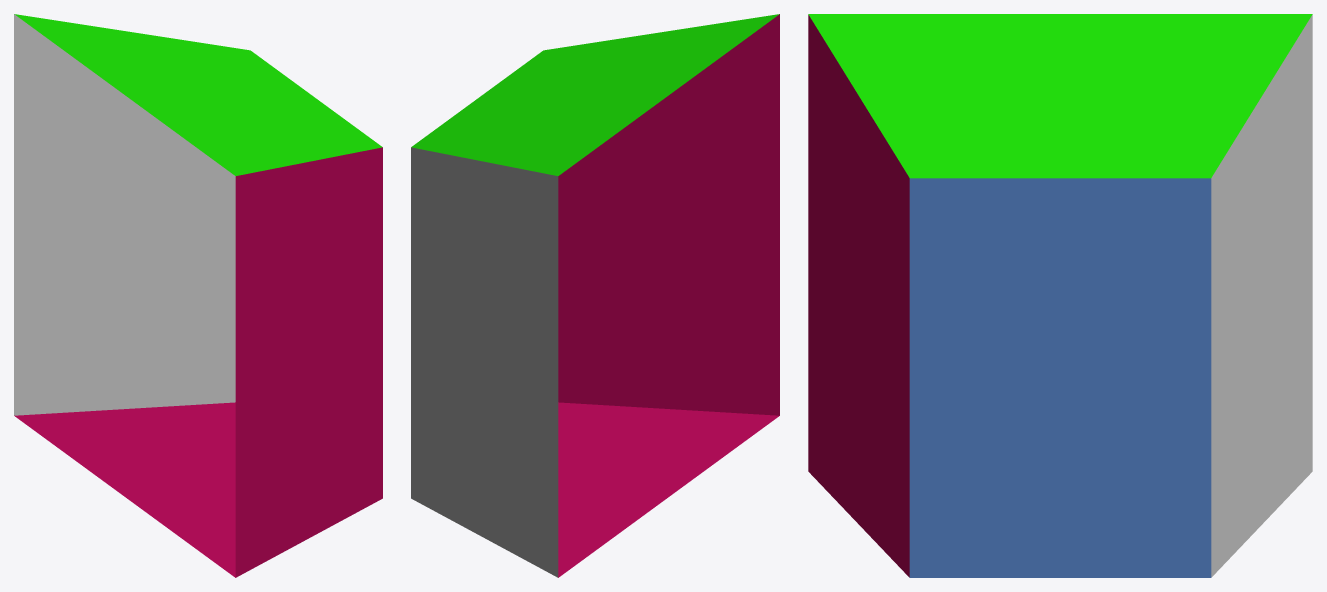
The model's file is 3D position helper.fbx.
The picture shows the model from 3 angles, left to right: view 1: azimuth 30°, elevation 25°; view 2: azimuth 150°, elevation 25°; view 3: azimuth 270°, elevation 25°; orthographic projection. The views are drawn at different scales.
Parts seen in each view (by area): view 1: Cube; view 2: Cube; view 3: Cube.
Boxes of the visible parts, x1,y1,x2,y2 form: Cube: [14, 14, 382, 577]; Cube: [411, 14, 779, 577]; Cube: [808, 14, 1312, 577].
Size of the model in its own units: 100 by 200 by 200.
